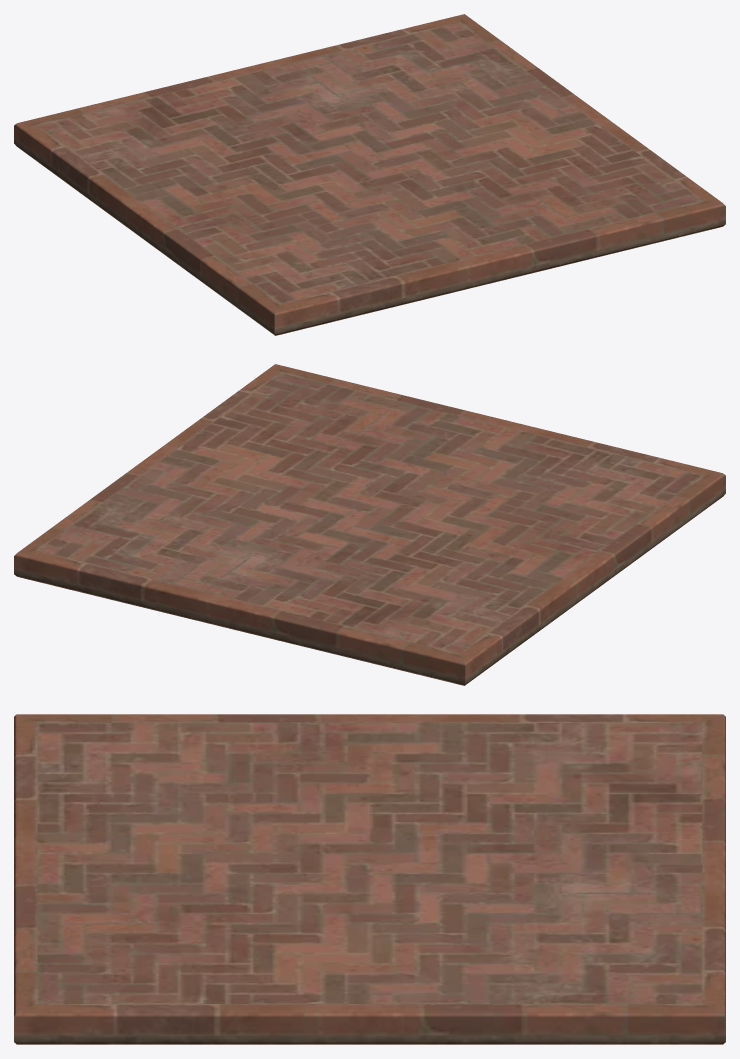
The model's file is foundation.adobe.glb.
3 renders of one model, top to bottom at view 1: azimuth 30°, elevation 25°; view 2: azimuth 150°, elevation 25°; view 3: azimuth 270°, elevation 25°, orthographic. The views are drawn at different scales.
Visible parts, largest first — view 1: model; view 2: model; view 3: model.
Boxes of the visible parts, x1,y1,x2,y2 form: model: (14, 14, 725, 335); model: (14, 364, 725, 685); model: (14, 714, 725, 1044).
Size of the model in its own units: 3 by 0.15 by 3.
Materials: 1 (1 with a texture image).
